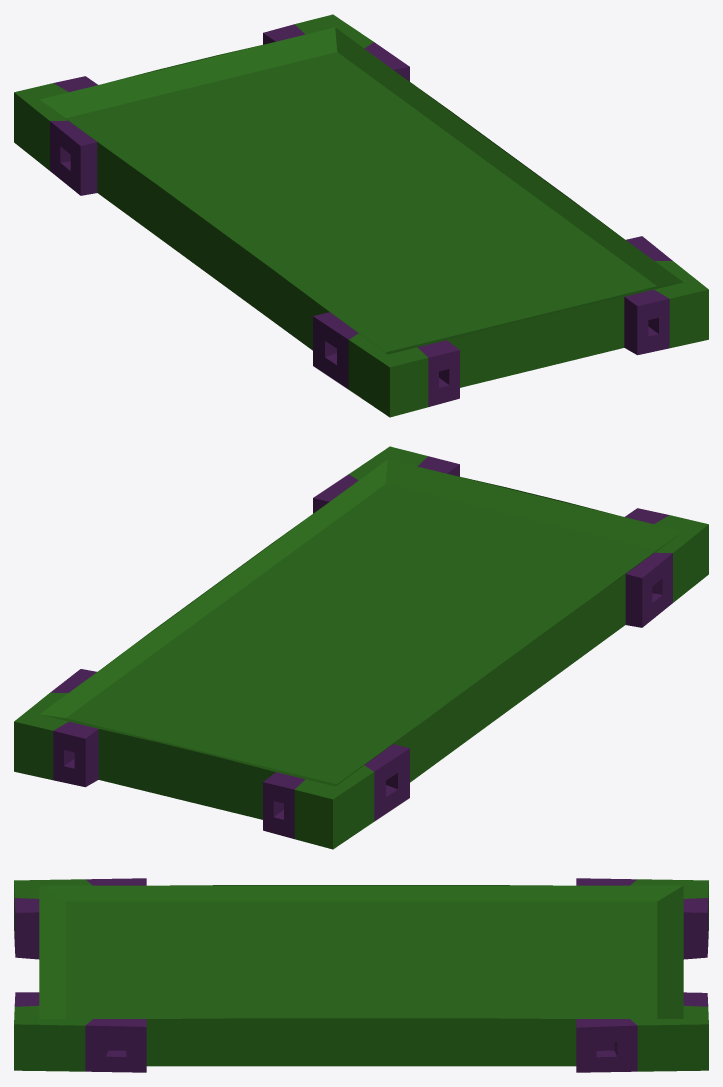
Rendered from decorative thingamajig 5.fbx.
3 views of the same model, one above another, from view 1: azimuth 30°, elevation 25°; view 2: azimuth 150°, elevation 25°; view 3: azimuth 270°, elevation 25° (orthographic). The views are drawn at different scales.
Visible parts, largest first — view 1: Cube; view 2: Cube; view 3: Cube.
Part boxes in pixels (x1,y1,x2,y2): Cube: (14,14,708,417); Cube: (14,446,708,849); Cube: (14,878,708,1072).
Size of the model in its own units: 546 by 82.26 by 1079.
